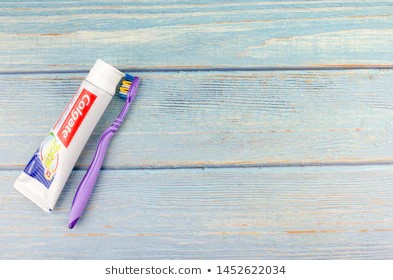colgate-total-150gm: (15, 46, 129, 211)
toothbrush: (62, 73, 143, 233)
